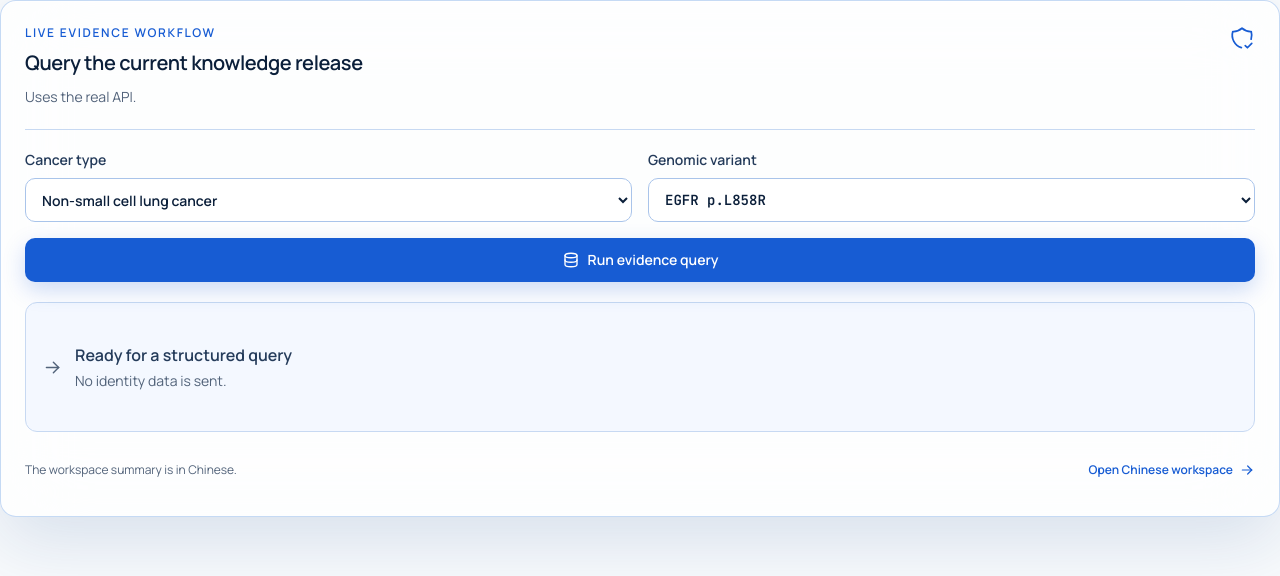
Scenario: LandingEvidenceDemo › renders the OUT_OF_SCOPE business state without a fabricated result
The width and height of the screenshot is (1280, 576).
Step 1. Click the button "Run evidence query" → (640, 260), box [25,238,1255,282]
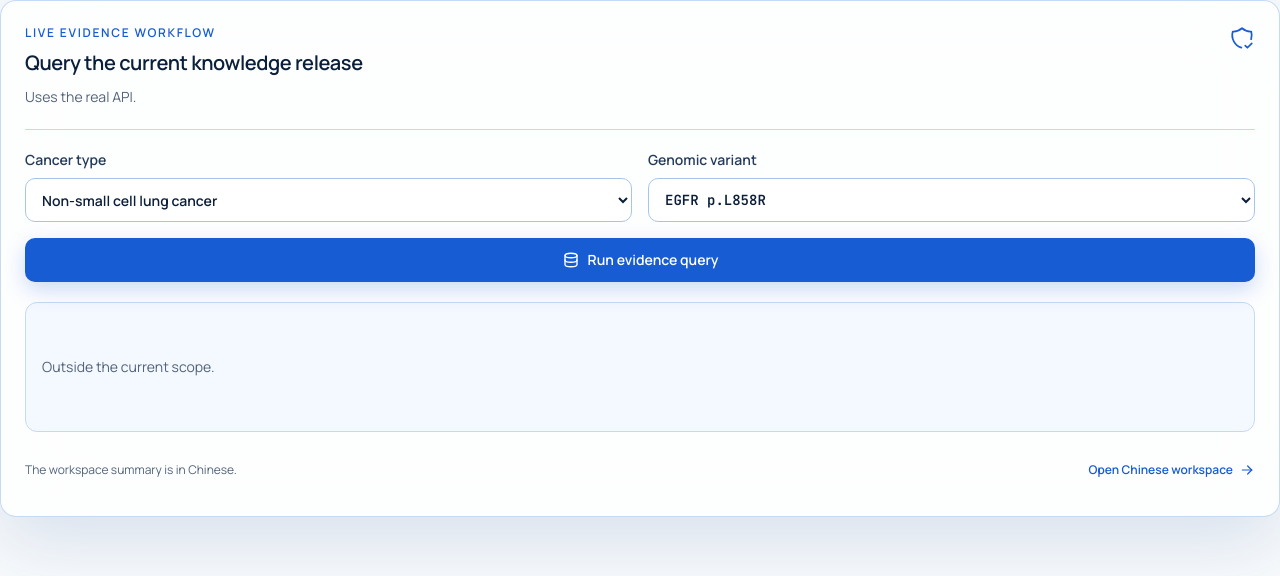
expect the text "Outside the current scope." is shown: met, box [42,357,214,376]
